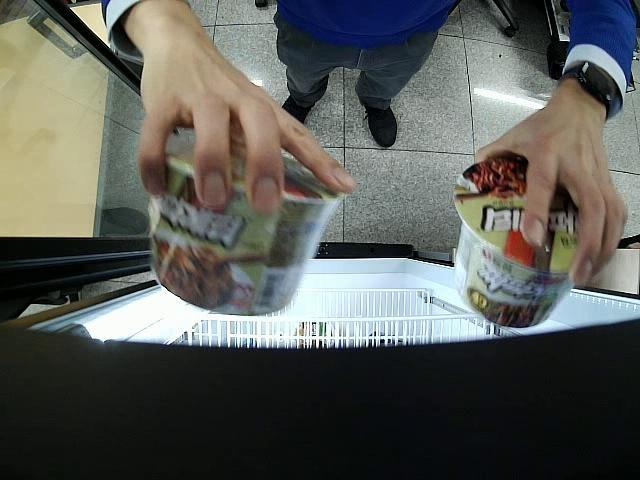03_chapagetti_L: (148, 140, 346, 316), (452, 154, 579, 329)
